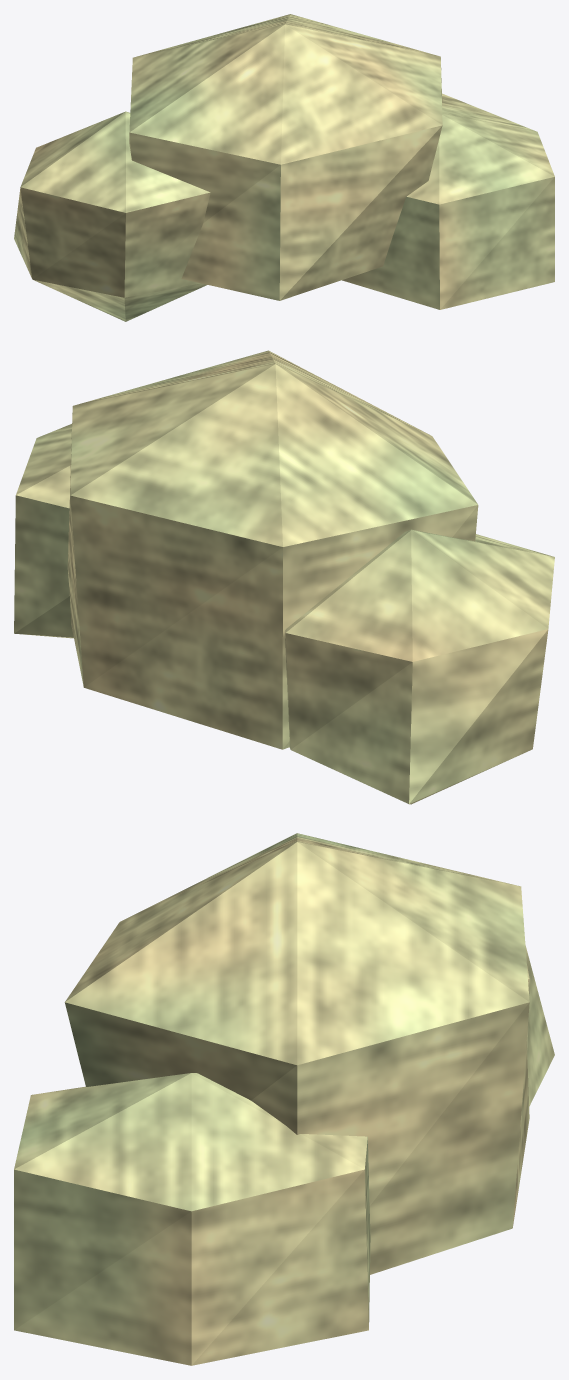
File: cespuglio.obj
3 renders of one model, top to bottom at view 1: azimuth 30°, elevation 25°; view 2: azimuth 150°, elevation 25°; view 3: azimuth 270°, elevation 25°, orthographic. The views are drawn at different scales.
Parts seen in each view (by area): view 1: cespuglio; view 2: cespuglio; view 3: cespuglio.
Part boxes in pixels (box(x1,y1,x2,y2)): cespuglio: box(14, 14, 554, 321); cespuglio: box(14, 350, 554, 804); cespuglio: box(14, 833, 554, 1365).
Size of the model in its own units: 1.95 by 1.14 by 1.28.
3 materials, 3 textured.
